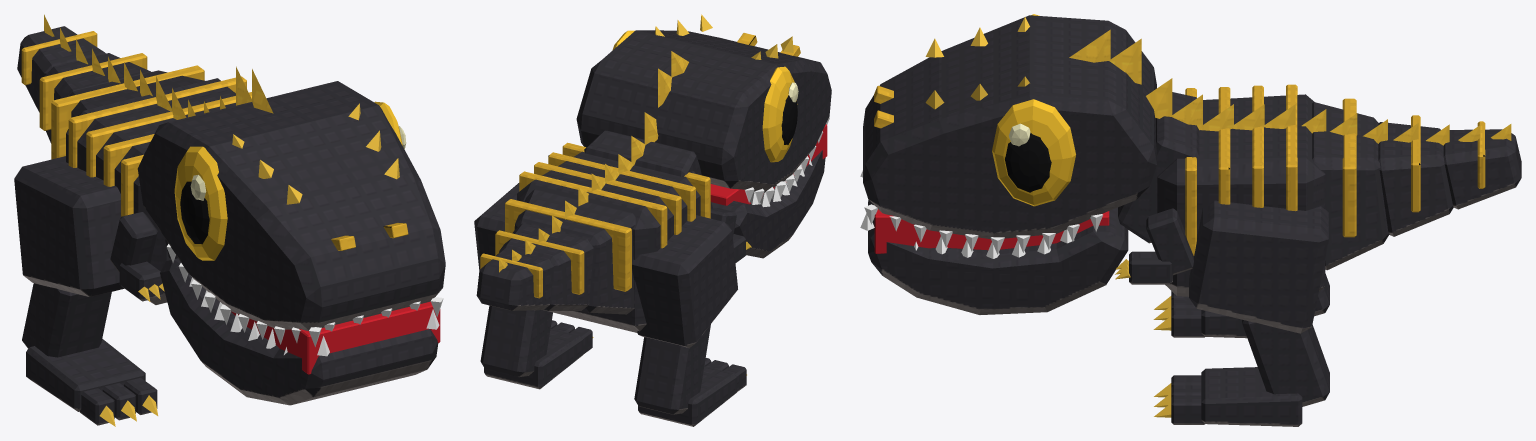
Rendered from bebe_19_Giganotosaurus.glb.
3 renders of one model, left to right at view 1: azimuth 30°, elevation 25°; view 2: azimuth 150°, elevation 25°; view 3: azimuth 270°, elevation 25°, orthographic. The views are drawn at different scales.
Parts seen in each view (by area): view 1: bebe_19_Giganotosaurus; view 2: bebe_19_Giganotosaurus; view 3: bebe_19_Giganotosaurus.
Boxes of the visible parts, box(x1,y1,x2,y2) form: bebe_19_Giganotosaurus: box(14, 14, 445, 426); bebe_19_Giganotosaurus: box(474, 14, 831, 426); bebe_19_Giganotosaurus: box(860, 14, 1521, 426).
Bounding box in the file's own units: 3.3 × 4.29 × 7.58.
1 material, 1 textured.
